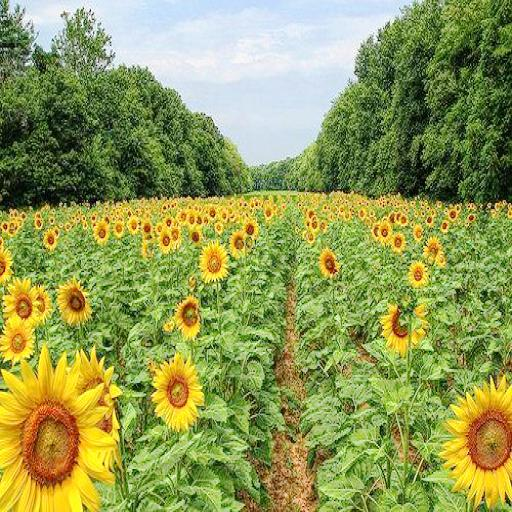sunflower: (445, 373, 511, 512), (152, 354, 204, 430), (382, 300, 427, 352), (4, 277, 39, 324), (57, 280, 91, 324), (199, 242, 228, 282), (176, 297, 202, 338), (229, 230, 249, 260), (320, 248, 339, 278), (424, 236, 444, 264), (410, 260, 428, 286), (94, 220, 112, 243), (243, 217, 258, 241), (158, 229, 173, 252), (377, 220, 392, 241), (43, 228, 58, 249), (140, 242, 157, 258), (391, 232, 405, 251), (307, 214, 321, 232), (127, 218, 139, 236), (414, 221, 423, 240)
